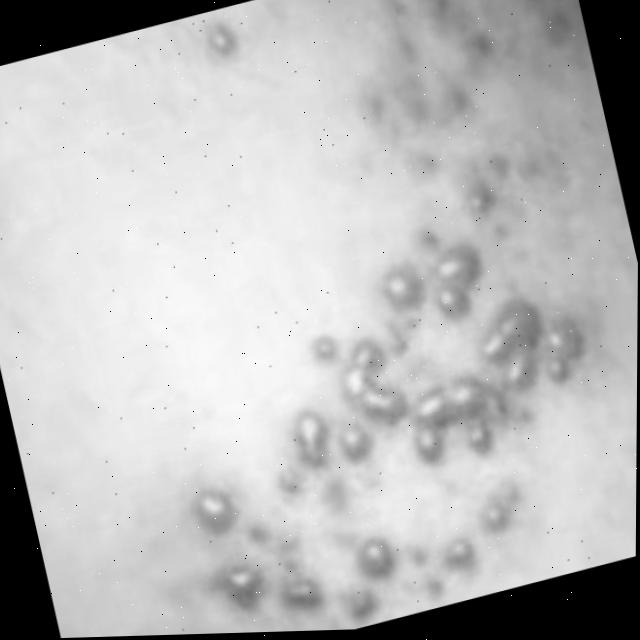Shingles: (64, 185, 628, 638), (321, 0, 542, 213), (210, 27, 236, 66)
